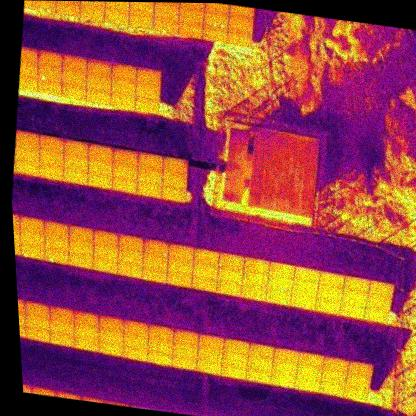Hotspot: (202, 7, 229, 28), (142, 238, 170, 258), (151, 14, 179, 34), (264, 288, 293, 306), (18, 242, 46, 260), (42, 246, 70, 264), (265, 276, 294, 293), (218, 253, 246, 270), (240, 284, 268, 301), (36, 65, 63, 82), (60, 83, 87, 100), (141, 266, 168, 283), (30, 0, 58, 13), (79, 1, 106, 7)
Normal: (117, 233, 144, 254), (92, 229, 120, 249), (127, 10, 155, 30), (242, 256, 271, 275), (177, 4, 204, 24), (342, 275, 372, 293), (110, 62, 138, 81), (227, 12, 255, 31), (62, 138, 90, 157), (161, 156, 189, 175), (136, 165, 164, 184), (61, 166, 89, 185), (159, 183, 187, 202), (67, 224, 95, 243), (42, 221, 70, 240), (167, 244, 195, 263), (192, 248, 220, 267), (48, 304, 76, 323), (147, 324, 175, 343), (292, 266, 321, 284), (367, 279, 396, 297), (315, 285, 344, 303), (339, 288, 368, 306), (189, 274, 218, 292), (272, 346, 301, 364), (322, 355, 351, 373), (47, 329, 76, 347), (134, 95, 161, 114), (135, 179, 162, 198), (176, 20, 203, 39), (201, 24, 228, 43), (36, 49, 63, 68), (134, 67, 162, 85), (60, 68, 88, 86), (84, 87, 112, 105), (108, 91, 136, 109), (38, 134, 66, 152), (86, 157, 114, 175), (85, 171, 113, 189), (268, 261, 296, 279), (317, 271, 345, 289), (216, 265, 244, 283), (66, 251, 94, 269), (215, 278, 243, 296), (226, 29, 254, 47), (72, 309, 100, 327), (97, 314, 125, 332), (171, 329, 199, 347), (247, 342, 275, 360), (269, 371, 297, 389), (85, 58, 113, 76), (289, 292, 318, 309), (296, 351, 325, 368), (346, 360, 375, 377), (85, 73, 112, 91), (134, 81, 161, 99), (14, 130, 41, 148), (14, 158, 41, 176), (111, 175, 138, 193), (166, 270, 193, 288), (109, 78, 137, 95), (86, 144, 114, 161), (112, 148, 140, 165), (136, 152, 164, 169), (37, 149, 65, 166), (102, 7, 130, 24), (42, 234, 70, 251), (91, 257, 119, 274), (314, 297, 342, 314), (23, 301, 51, 318), (222, 338, 250, 355), (271, 359, 299, 376), (195, 358, 223, 375), (245, 367, 273, 384), (318, 379, 346, 396), (61, 54, 89, 71), (62, 153, 89, 170), (111, 162, 138, 179), (38, 163, 65, 180), (18, 217, 45, 234), (78, 4, 105, 21), (241, 270, 268, 287), (362, 305, 389, 322), (198, 333, 225, 350), (97, 328, 124, 345), (72, 335, 99, 352), (170, 354, 197, 371), (171, 342, 199, 358), (98, 339, 124, 356), (153, 2, 180, 18), (54, 1, 81, 17), (19, 230, 46, 246), (67, 240, 94, 256), (191, 263, 218, 279), (338, 302, 365, 318), (122, 320, 149, 336), (48, 318, 75, 334), (72, 323, 99, 339), (147, 337, 174, 353), (197, 346, 224, 362), (221, 351, 248, 367), (246, 356, 273, 372), (320, 369, 347, 385), (146, 350, 173, 366), (220, 363, 247, 379), (294, 376, 321, 392), (291, 281, 319, 296), (37, 79, 63, 95), (14, 145, 40, 161), (162, 172, 188, 188), (92, 246, 118, 262), (167, 258, 193, 274), (366, 293, 392, 309), (116, 262, 142, 278), (122, 345, 148, 361), (342, 384, 368, 400), (117, 251, 144, 266), (122, 333, 149, 348), (295, 365, 322, 380), (344, 373, 371, 388), (141, 255, 167, 270), (24, 326, 49, 341), (25, 314, 49, 329), (128, 2, 155, 14), (103, 2, 131, 11), (193, 142, 195, 146)
